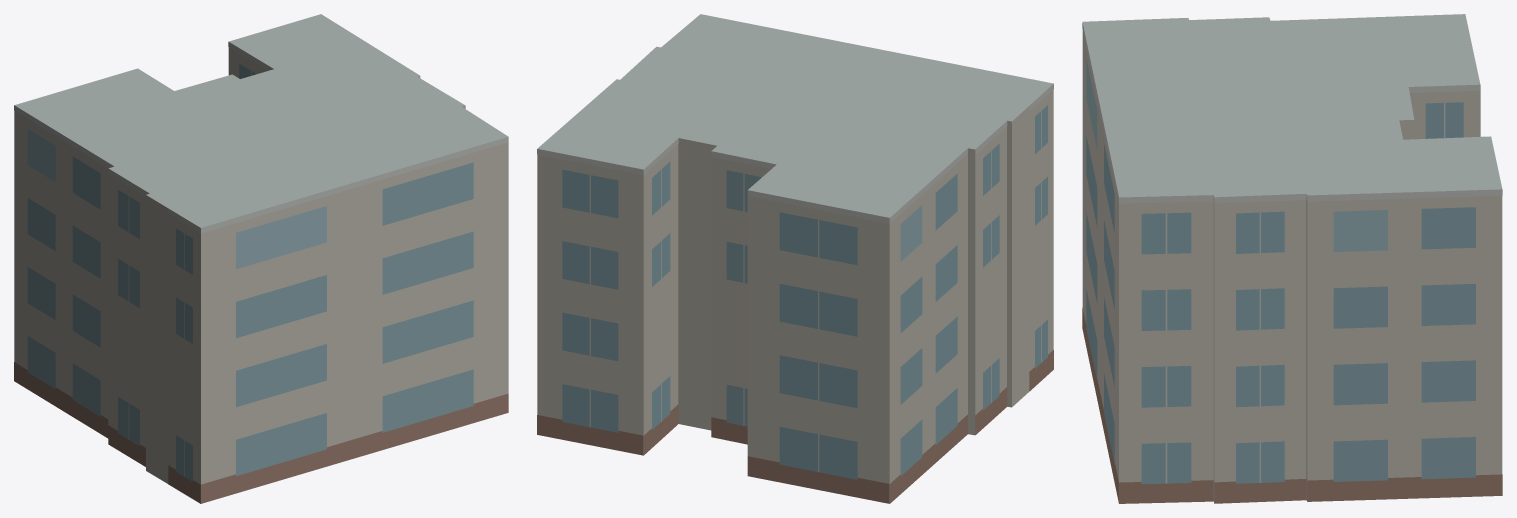
File: survey-upis-32778898.glb
The picture shows the model from 3 angles, left to right: view 1: azimuth 30°, elevation 25°; view 2: azimuth 150°, elevation 25°; view 3: azimuth 270°, elevation 25°; orthographic projection. The views are drawn at different scales.
Parts seen in each view (by area): view 1: survey-upis-32778898.tmp; view 2: survey-upis-32778898.tmp; view 3: survey-upis-32778898.tmp.
Part boxes in pixels (x1,y1,x2,y2): survey-upis-32778898.tmp: (14, 14, 508, 503); survey-upis-32778898.tmp: (537, 14, 1053, 503); survey-upis-32778898.tmp: (1082, 14, 1502, 503).
Bounding box in the file's own units: 15.67 × 12.2 × 15.17.
